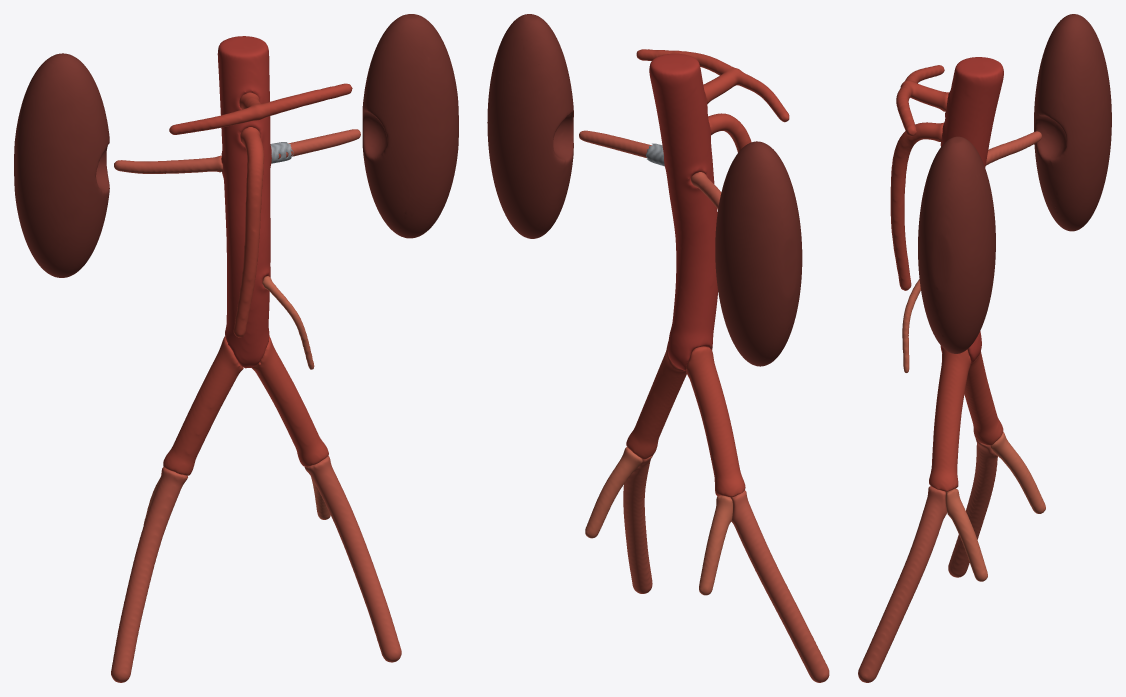
The model's file is artery_renal_stent.glb.
The picture shows the model from 3 angles, left to right: view 1: azimuth 30°, elevation 25°; view 2: azimuth 150°, elevation 25°; view 3: azimuth 270°, elevation 25°; orthographic projection. The views are drawn at different scales.
Parts seen in each view (by area): view 1: kidneys, aorta, external_iliacs, common_iliacs, superior_mesenteric, celiac_trunk, renal_arteries, inferior_mesenteric; view 2: kidneys, aorta, external_iliacs, common_iliacs, internal_iliacs, celiac_trunk, renal_arteries, superior_mesenteric; view 3: kidneys, external_iliacs, common_iliacs, aorta, internal_iliacs, superior_mesenteric, celiac_trunk, renal_arteries, inferior_mesenteric.
Boxes of the visible parts, x1=… form: kidneys: x1=14, y1=14, x2=458, y2=277; aorta: x1=217, y1=36, x2=271, y2=368; external_iliacs: x1=111, y1=455, x2=401, y2=682; common_iliacs: x1=163, y1=336, x2=328, y2=475; superior_mesenteric: x1=233, y1=127, x2=263, y2=337; celiac_trunk: x1=169, y1=83, x2=352, y2=134; renal_arteries: x1=114, y1=129, x2=360, y2=173; inferior_mesenteric: x1=262, y1=276, x2=314, y2=369; kidneys: x1=487, y1=14, x2=802, y2=366; aorta: x1=649, y1=53, x2=718, y2=370; external_iliacs: x1=623, y1=455, x2=829, y2=682; common_iliacs: x1=626, y1=341, x2=745, y2=497; internal_iliacs: x1=585, y1=447, x2=732, y2=595; celiac_trunk: x1=636, y1=49, x2=789, y2=122; renal_arteries: x1=579, y1=130, x2=721, y2=209; superior_mesenteric: x1=708, y1=113, x2=751, y2=152; kidneys: x1=918, y1=14, x2=1111, y2=353; external_iliacs: x1=858, y1=438, x2=997, y2=682; common_iliacs: x1=929, y1=349, x2=1003, y2=491; aorta: x1=940, y1=57, x2=1003, y2=363; internal_iliacs: x1=945, y1=432, x2=1045, y2=581; superior_mesenteric: x1=890, y1=122, x2=943, y2=290; celiac_trunk: x1=896, y1=65, x2=949, y2=136; renal_arteries: x1=985, y1=131, x2=1041, y2=165; inferior_mesenteric: x1=902, y1=279, x2=920, y2=372.
Bounding box in the file's own units: 17.44 × 26.79 × 10.72.
